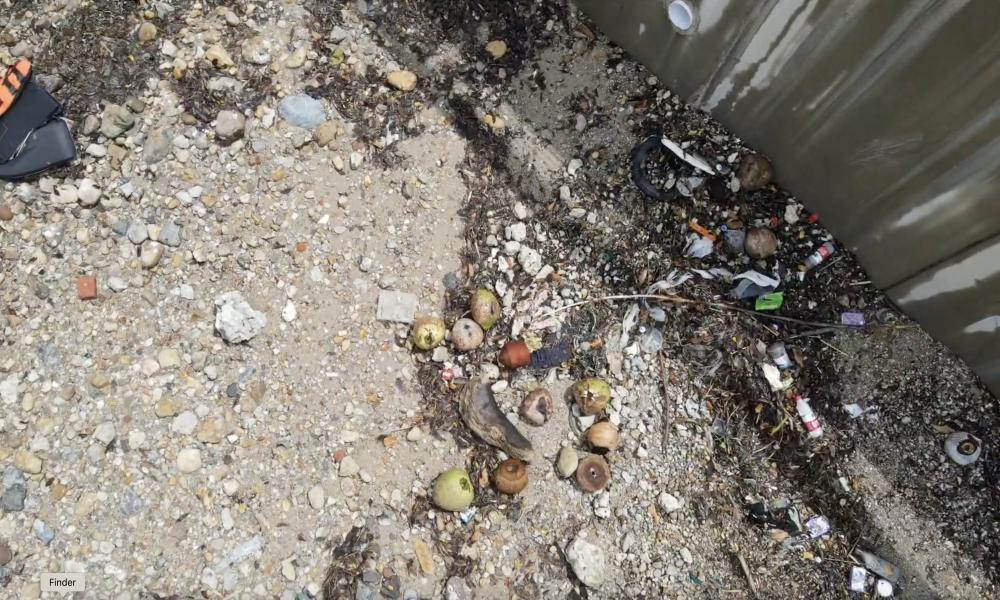carton: (829, 303, 871, 333), (800, 508, 832, 541), (847, 559, 867, 599)
plastic bottle: (787, 385, 825, 449), (798, 236, 840, 283)
plastic container: (368, 281, 424, 323)
tire: (630, 138, 692, 201)
